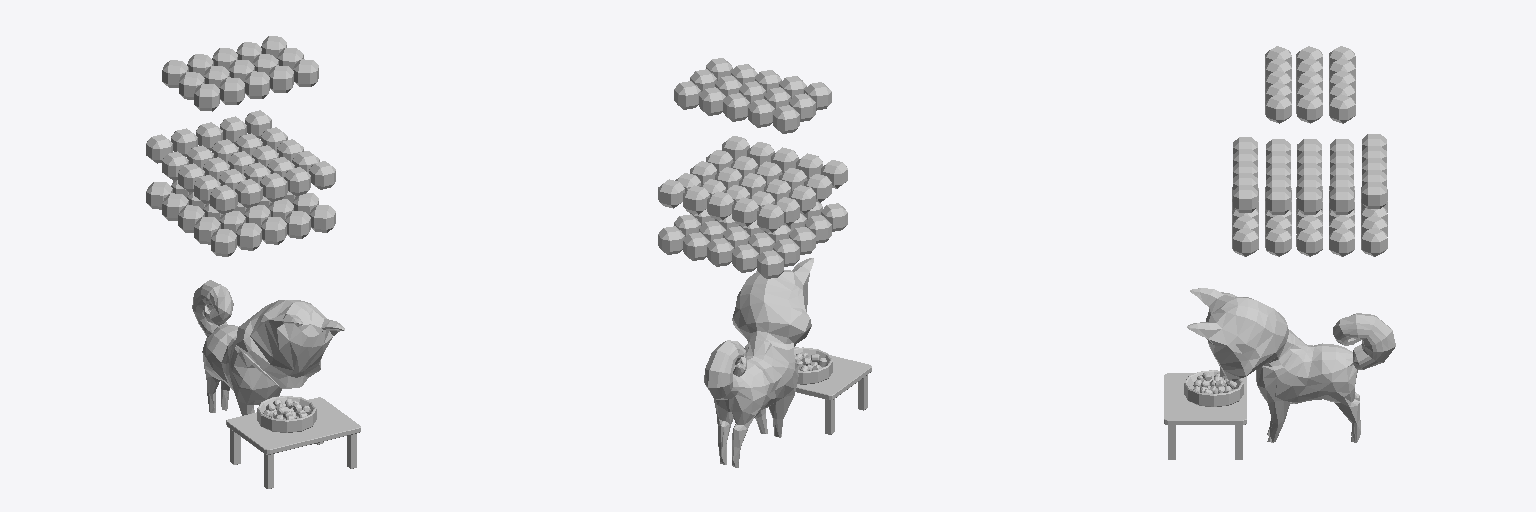
Rendered from fullBowl_frame59.obj.
3 views of the same model, side by side, from view 1: azimuth 30°, elevation 25°; view 2: azimuth 150°, elevation 25°; view 3: azimuth 270°, elevation 25° (orthographic).
Parts seen in each view (by area): view 1: newRigging1:BodzL1, Tisch:Tisch:pCube1, FressnapfFull:bulletRigidSetSolved1, FressnapfFull:pCube57, FressnapfFull:pCube45, FressnapfFull:pCube46, FressnapfFull:pCube36, FressnapfFull:pCube43, FressnapfFull:pCube50, FressnapfFull:pCube42, FressnapfFull:pCube48, FressnapfFull:pCube49 (+10 smaller); view 2: newRigging1:BodzL1, Tisch:Tisch:pCube1, FressnapfFull:bulletRigidSetSolved1, FressnapfFull:pCube51, FressnapfFull:pCube39, FressnapfFull:pCube64, FressnapfFull:pCube53, FressnapfFull:pCube55, FressnapfFull:pCube54, FressnapfFull:pCube37, FressnapfFull:pCube38, FressnapfFull:pCube41 (+8 smaller); view 3: newRigging1:BodzL1, Tisch:Tisch:pCube1, FressnapfFull:bulletRigidSetSolved1, FressnapfFull:pCube31, FressnapfFull:pCube55, FressnapfFull:pCube4, FressnapfFull:pCube41, FressnapfFull:pCube10, FressnapfFull:pCube36, FressnapfFull:pCube50, FressnapfFull:pCube30, FressnapfFull:pCube25 (+4 smaller).
Part boxes in pixels (bbox=[...]): newRigging1:BodzL1: bbox=[192, 280, 344, 415]; Tisch:Tisch:pCube1: bbox=[226, 397, 360, 488]; FressnapfFull:bulletRigidSetSolved1: bbox=[257, 396, 316, 432]; FressnapfFull:pCube57: bbox=[210, 185, 237, 213]; FressnapfFull:pCube45: bbox=[194, 83, 219, 111]; FressnapfFull:pCube46: bbox=[211, 229, 236, 256]; FressnapfFull:pCube36: bbox=[293, 59, 318, 86]; FressnapfFull:pCube43: bbox=[244, 71, 269, 98]; FressnapfFull:pCube50: bbox=[309, 205, 335, 232]; FressnapfFull:pCube42: bbox=[219, 77, 244, 104]; FressnapfFull:pCube48: bbox=[261, 217, 286, 244]; FressnapfFull:pCube49: bbox=[236, 223, 261, 250]; newRigging1:BodzL1: bbox=[704, 258, 813, 467]; Tisch:Tisch:pCube1: bbox=[794, 347, 871, 434]; FressnapfFull:bulletRigidSetSolved1: bbox=[794, 347, 832, 384]; FressnapfFull:pCube51: bbox=[757, 250, 783, 278]; FressnapfFull:pCube39: bbox=[773, 105, 799, 133]; FressnapfFull:pCube64: bbox=[757, 203, 783, 232]; FressnapfFull:pCube53: bbox=[707, 238, 733, 266]; FressnapfFull:pCube55: bbox=[658, 226, 684, 254]; FressnapfFull:pCube54: bbox=[732, 244, 758, 272]; FressnapfFull:pCube37: bbox=[748, 99, 774, 127]; FressnapfFull:pCube38: bbox=[723, 93, 749, 121]; FressnapfFull:pCube41: bbox=[674, 81, 700, 109]; newRigging1:BodzL1: bbox=[1187, 288, 1395, 442]; Tisch:Tisch:pCube1: bbox=[1164, 373, 1246, 459]; FressnapfFull:bulletRigidSetSolved1: bbox=[1184, 370, 1243, 406]; FressnapfFull:pCube31: bbox=[1296, 94, 1322, 123]; FressnapfFull:pCube55: bbox=[1361, 228, 1387, 256]; FressnapfFull:pCube4: bbox=[1296, 227, 1322, 256]; FressnapfFull:pCube41: bbox=[1329, 94, 1355, 123]; FressnapfFull:pCube10: bbox=[1265, 228, 1291, 256]; FressnapfFull:pCube36: bbox=[1265, 94, 1291, 123]; FressnapfFull:pCube50: bbox=[1232, 228, 1258, 256]; FressnapfFull:pCube30: bbox=[1297, 187, 1321, 214]; FressnapfFull:pCube25: bbox=[1266, 187, 1290, 214].
Size of the model in its own units: 5.73 by 16.34 by 9.44.